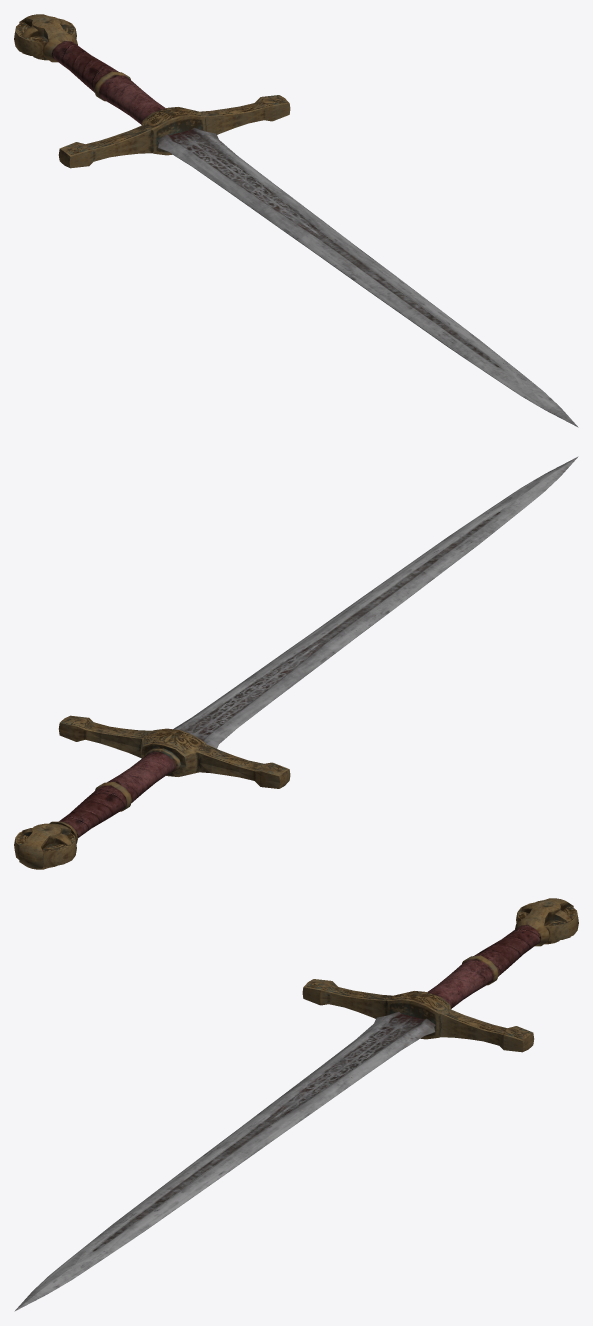
3 views of the same model, one above another, from view 1: azimuth 30°, elevation 25°; view 2: azimuth 150°, elevation 25°; view 3: azimuth 330°, elevation 25° (orthographic).
Visible parts, largest first — view 1: WP_A_0207, WP_A_0207.001; view 2: WP_A_0207, WP_A_0207.001; view 3: WP_A_0207, WP_A_0207.001.
Part boxes in pixels (x1,y1,x2,y2): WP_A_0207: (14,14,578,427); WP_A_0207.001: (52,41,165,124); WP_A_0207: (14,456,578,869); WP_A_0207.001: (59,751,175,837); WP_A_0207: (14,898,578,1311); WP_A_0207.001: (427,925,540,1008).
Bounding box in the file's own units: 25.94 × 4.46 × 111.
Materials: 2 (2 with a texture image).
